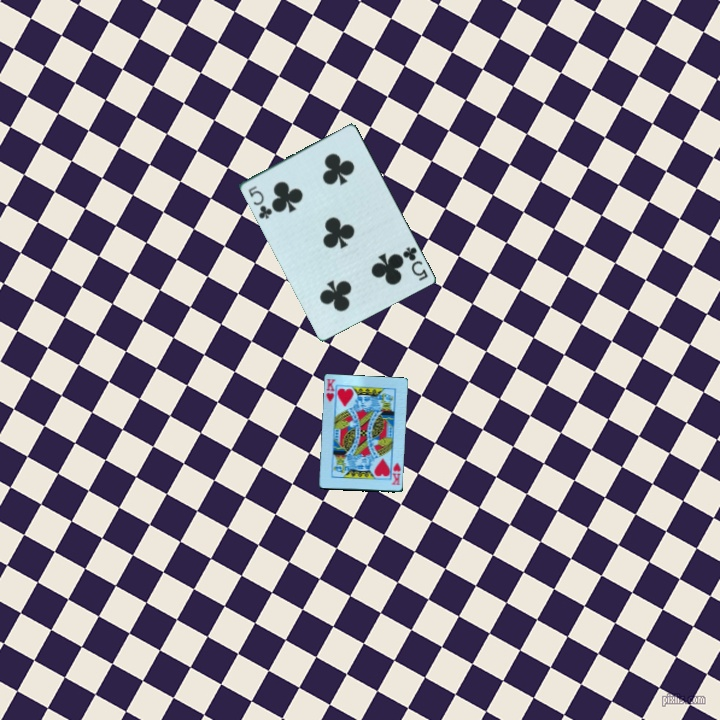5c: (399, 243, 431, 284), (244, 182, 275, 222)
Kh: (388, 459, 403, 488), (323, 376, 338, 405)
